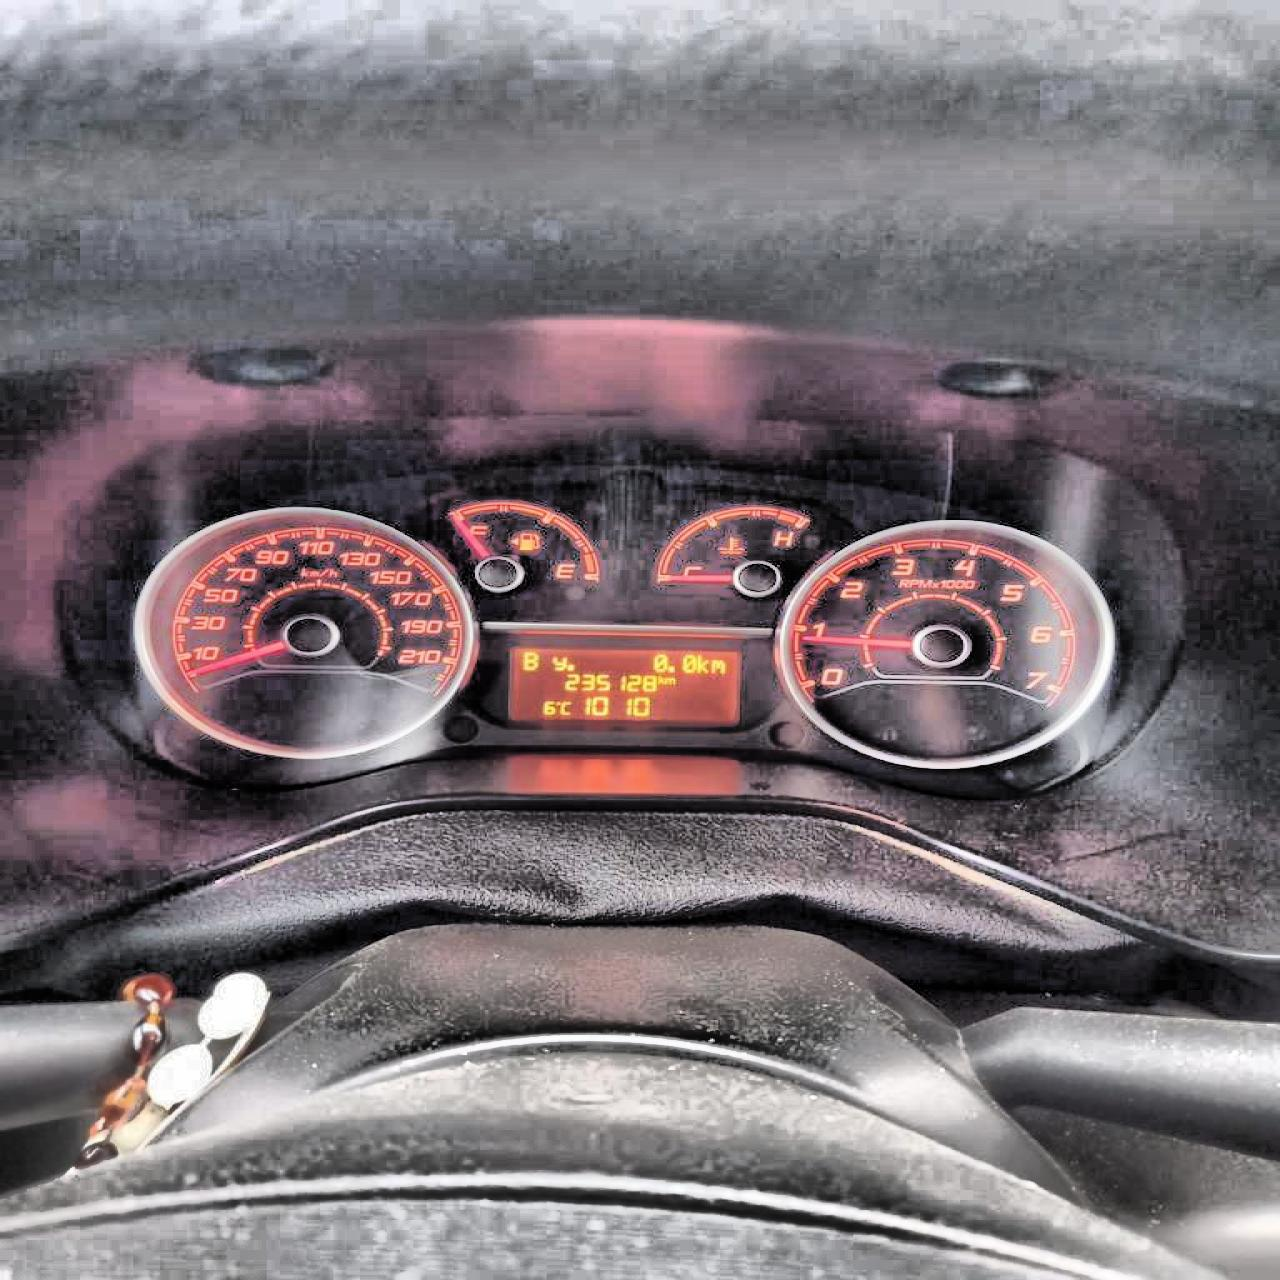-: (665, 663, 675, 674), (565, 661, 576, 670)
0: (632, 695, 651, 715), (592, 695, 608, 715), (652, 651, 667, 670), (680, 653, 695, 673)
1: (618, 675, 625, 692), (624, 696, 629, 715), (584, 696, 590, 714)
2: (564, 674, 579, 690), (627, 673, 640, 689)
3: (580, 673, 593, 692)
5: (594, 670, 608, 692)
6: (542, 699, 556, 715)
8: (641, 674, 655, 692)
X: (519, 649, 538, 670), (695, 653, 708, 674), (558, 699, 573, 715), (710, 656, 726, 673), (552, 655, 565, 670), (663, 675, 675, 685), (656, 674, 663, 685)
odometer: (506, 644, 743, 726)
